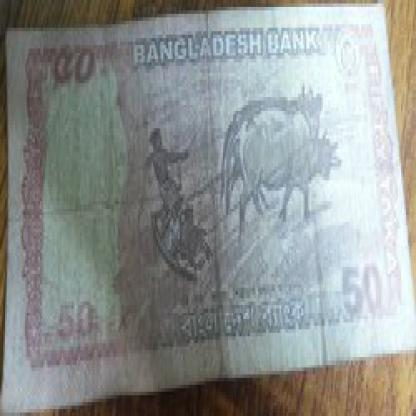Fifty taka: (43, 35, 120, 118), (341, 242, 383, 333)
